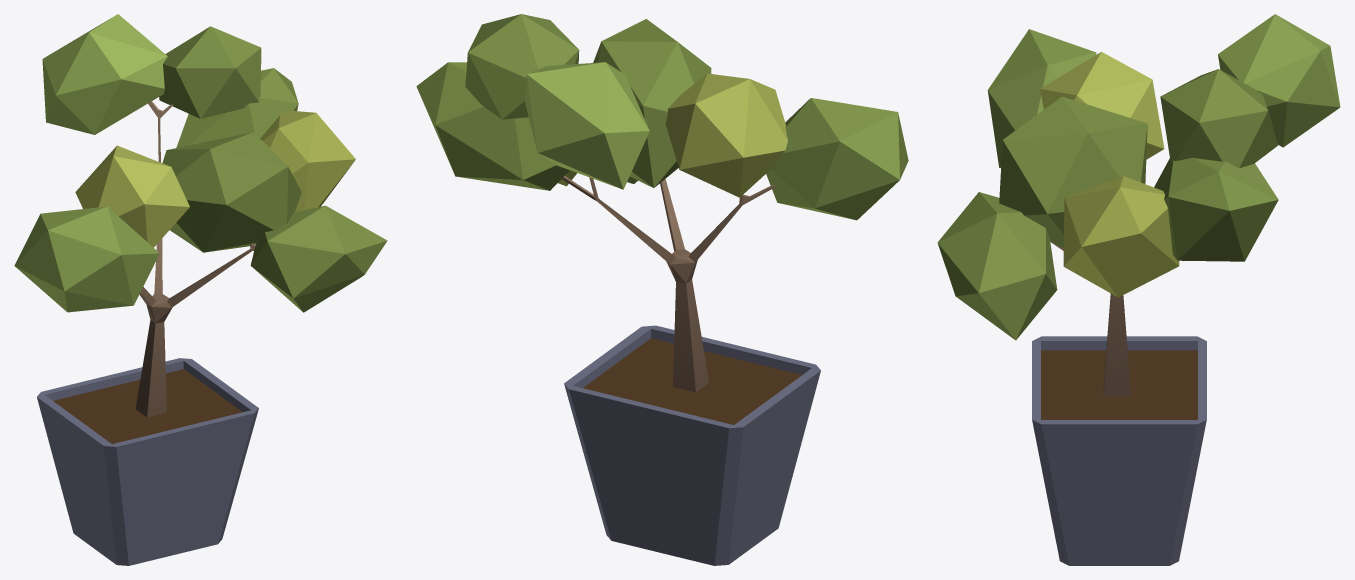
Rendered from Plant_15.fbx.
3 renders of one model, left to right at view 1: azimuth 30°, elevation 25°; view 2: azimuth 150°, elevation 25°; view 3: azimuth 270°, elevation 25°, orthographic. The views are drawn at different scales.
Visible parts, largest first — view 1: Plant_15; view 2: Plant_15; view 3: Plant_15.
Boxes of the visible parts, x1=… form: Plant_15: x1=14, y1=14, x2=387, y2=565; Plant_15: x1=416, y1=14, x2=908, y2=565; Plant_15: x1=937, y1=14, x2=1340, y2=565.
Size of the model in its own units: 99.04 by 123 by 85.36.
